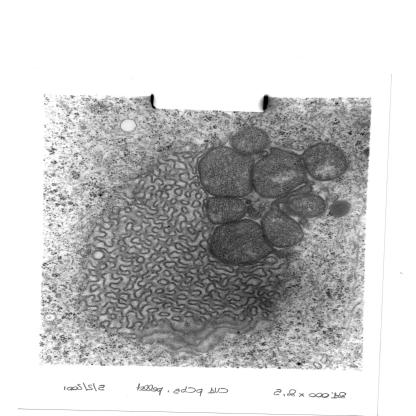mitochondria: (248, 146, 308, 198), (209, 219, 275, 265), (198, 145, 255, 198), (261, 198, 305, 249), (302, 141, 350, 181), (205, 196, 248, 226), (229, 126, 271, 156), (281, 194, 327, 218)
